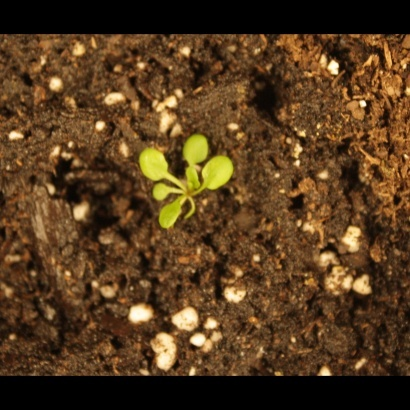leaf: (135, 146, 176, 185), (203, 151, 238, 191), (154, 200, 189, 235), (181, 132, 210, 165), (181, 166, 204, 193), (152, 181, 176, 204)
